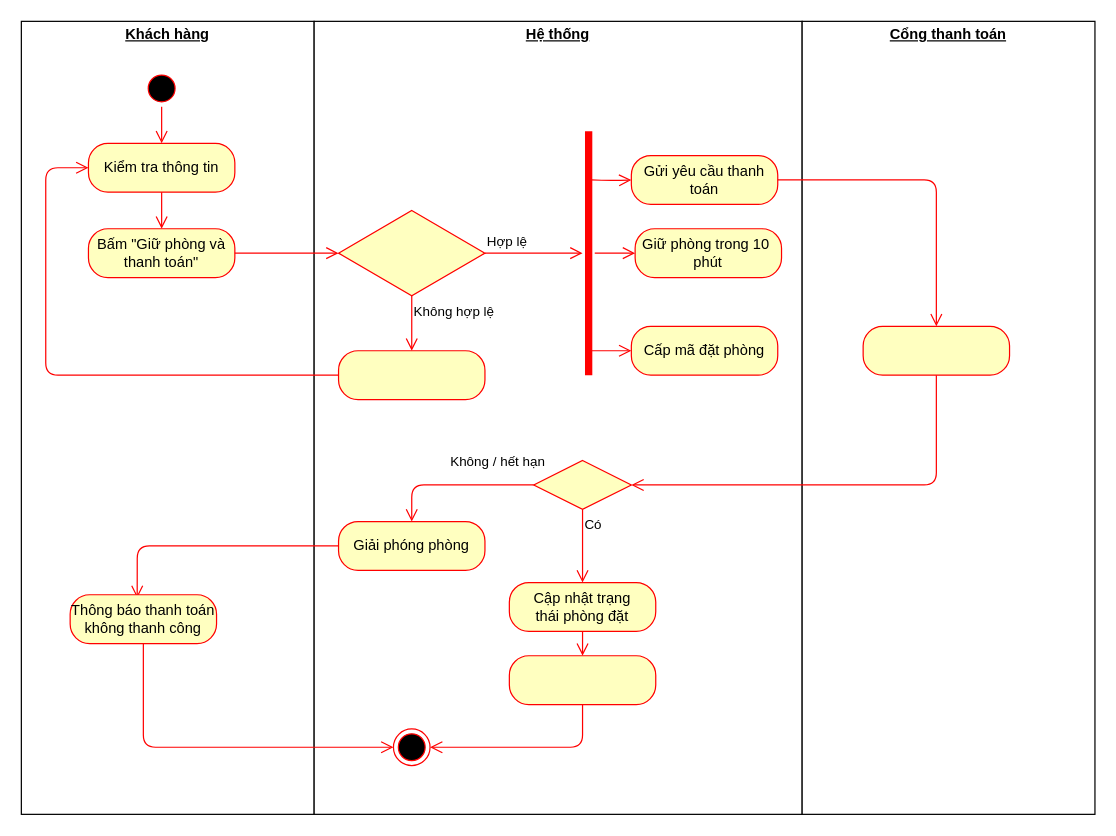
Image size: 1116x836. Some labels were removed from this diagram. The centre of each missing label's shape, as x and y in pixels:
"Hiển thị thông tin đặt phòng" goes at (582,680).
"khả dụng của phòng và mã ưu đãi" goes at (411,252).
"Thành công" goes at (582,484).
"Tính lại tổng tiền" goes at (411,375).
"Xác nhận thanh toán" goes at (936,350).
